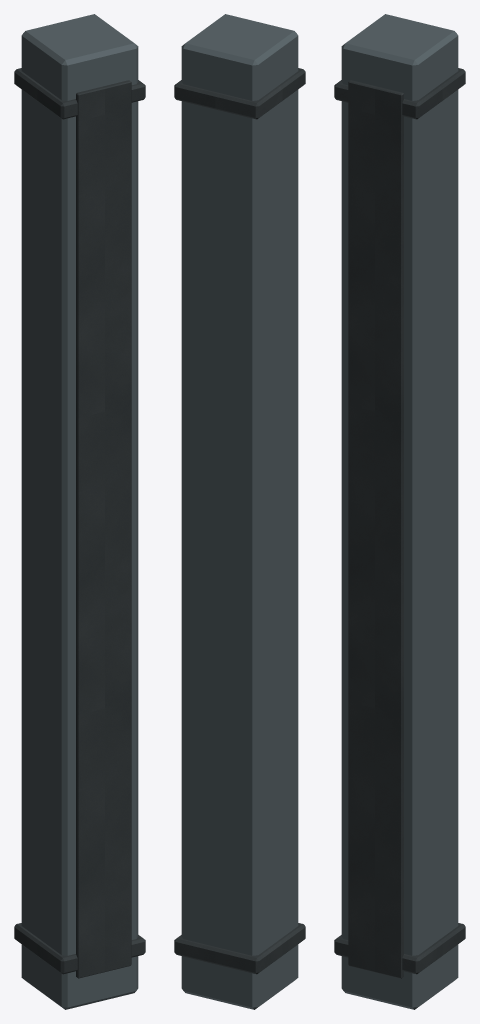
File: StructuralColumn.glb
The picture shows the model from 3 angles, left to right: view 1: azimuth 30°, elevation 25°; view 2: azimuth 150°, elevation 25°; view 3: azimuth 330°, elevation 25°; orthographic projection.
Visible parts, largest first — view 1: StructuralColumn__BlackenedSteel__mesh, StructuralColumn__Powdercoat__mesh; view 2: StructuralColumn__BlackenedSteel__mesh, StructuralColumn__Powdercoat__mesh; view 3: StructuralColumn__BlackenedSteel__mesh, StructuralColumn__Powdercoat__mesh.
Boxes of the visible parts, bbox=[...] form: StructuralColumn__BlackenedSteel__mesh: bbox=[21, 14, 138, 1009]; StructuralColumn__Powdercoat__mesh: bbox=[14, 68, 145, 978]; StructuralColumn__BlackenedSteel__mesh: bbox=[181, 14, 298, 1009]; StructuralColumn__Powdercoat__mesh: bbox=[174, 68, 305, 974]; StructuralColumn__BlackenedSteel__mesh: bbox=[341, 14, 458, 1009]; StructuralColumn__Powdercoat__mesh: bbox=[334, 68, 465, 978].
Size of the model in its own units: 0.3 by 3.2 by 0.303.
Materials: 2 (1 with a texture image).
